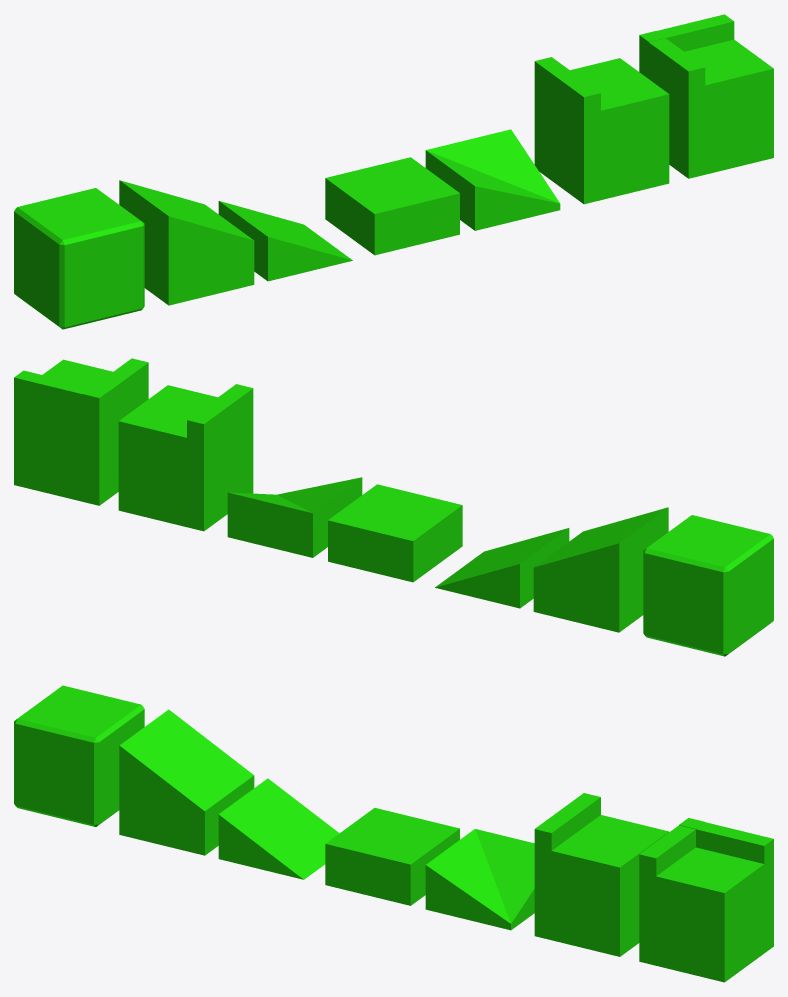
Rendered from world-blocks-v1.glb.
The picture shows the model from 3 angles, top to bottom: view 1: azimuth 30°, elevation 25°; view 2: azimuth 150°, elevation 25°; view 3: azimuth 330°, elevation 25°; orthographic projection.
Visible parts, largest first — view 1: WallSide, Walls, Block, RampTop, HalfBlock, MidRamp, RampBottom; view 2: WallSide, Block, Walls, RampTop, HalfBlock, MidRamp, RampBottom; view 3: Walls, WallSide, Block, RampTop, MidRamp, HalfBlock, RampBottom.
Boxes of the visible parts, box(x1,y1,x2,y2) form: WallSide: box(534, 57, 669, 204); Walls: box(639, 14, 773, 178); Block: box(14, 188, 144, 329); RampTop: box(119, 180, 254, 305); HalfBlock: box(325, 157, 459, 255); MidRamp: box(425, 129, 560, 230); RampBottom: box(218, 201, 352, 281); WallSide: box(118, 384, 253, 531); Block: box(643, 515, 773, 656); Walls: box(14, 358, 148, 505); RampTop: box(533, 507, 668, 632); HalfBlock: box(328, 484, 462, 582); MidRamp: box(227, 477, 362, 557); RampBottom: box(435, 528, 569, 608); Walls: box(639, 818, 773, 982); WallSide: box(534, 793, 669, 956); Block: box(14, 685, 144, 826); RampTop: box(119, 709, 254, 855); MidRamp: box(425, 829, 534, 930); HalfBlock: box(325, 808, 459, 905); RampBottom: box(218, 778, 339, 879).
Size of what is drawn, in the model's own units: 16.69 by 2.41 by 2.
